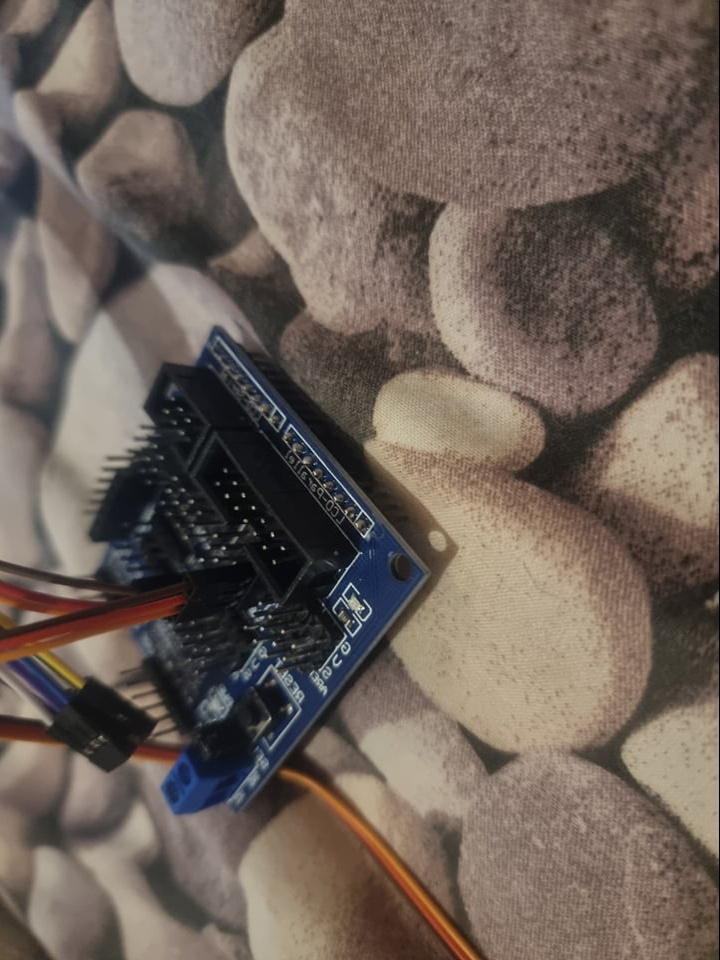5V EXPANSION: (74, 322, 435, 815)
